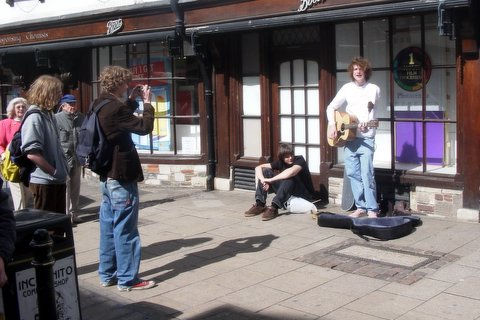person: (87, 65, 157, 293), (327, 58, 383, 219)
